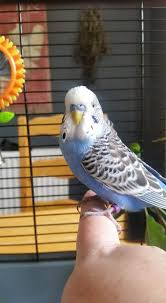budgie: (60, 84, 166, 219)
